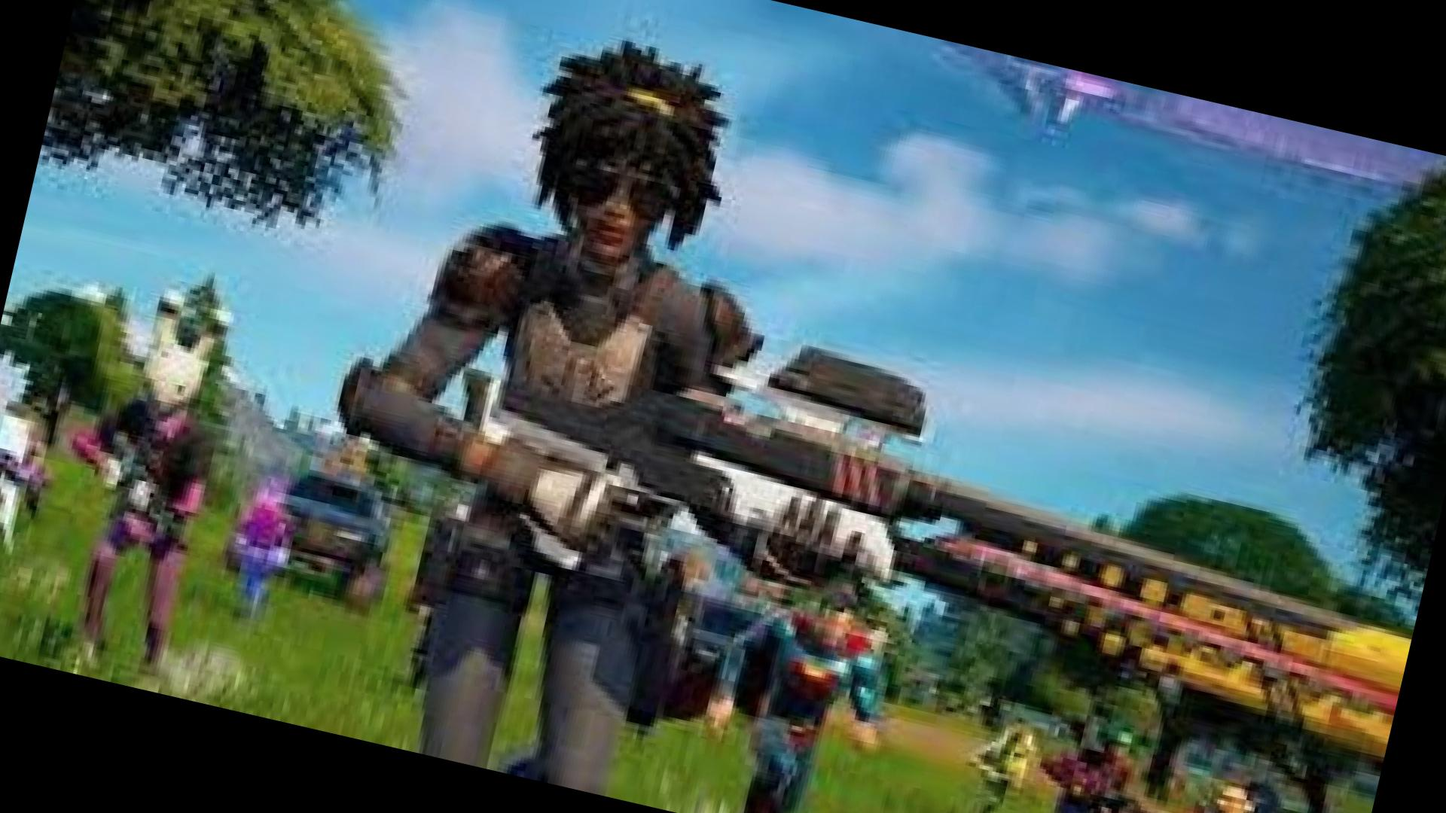player: (415, 111, 723, 692), (88, 326, 219, 614), (742, 597, 871, 793), (226, 488, 299, 622), (969, 728, 1032, 813), (0, 363, 28, 537), (1065, 730, 1119, 813)
